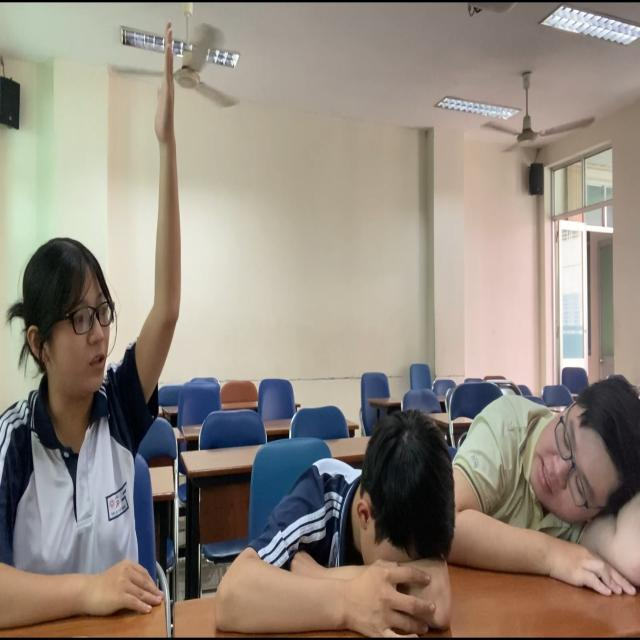raise_hand: (1, 14, 192, 635)
sleep: (205, 413, 461, 632), (458, 367, 640, 591)
